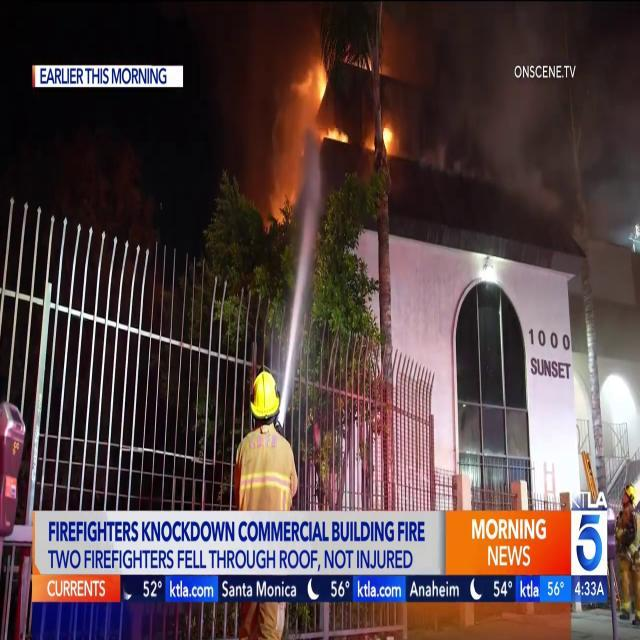Smoke: (410, 0, 640, 288), (402, 1, 640, 200)
